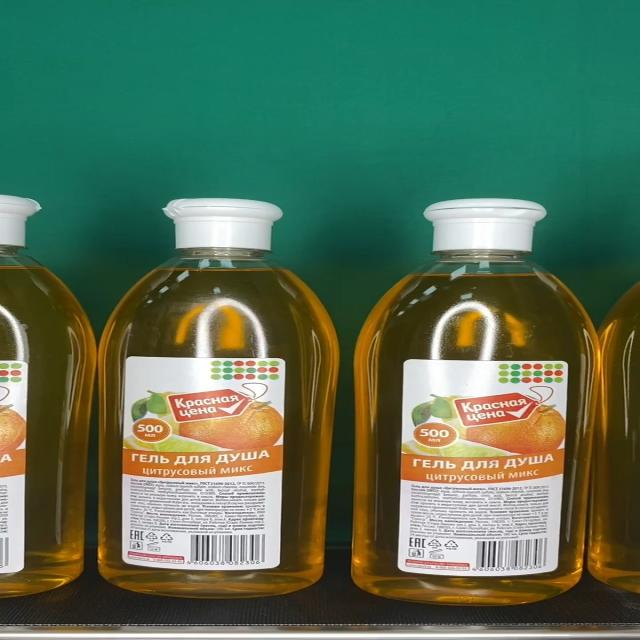Bottle: (351, 200, 601, 606), (95, 198, 339, 598)
Cap: (422, 200, 548, 252), (163, 198, 282, 249)
